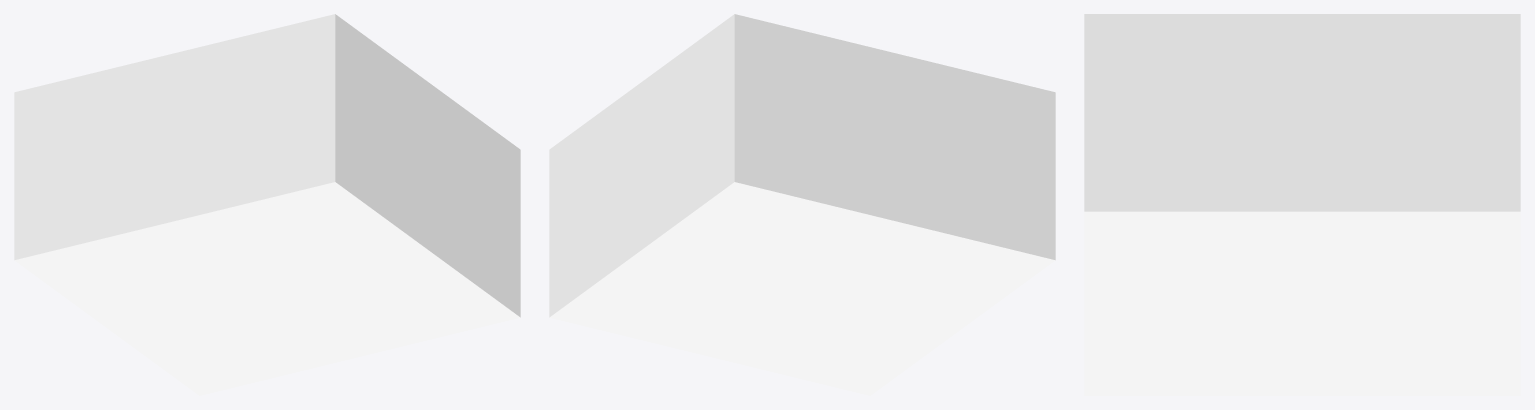
File: stage-heart_white.glb
The picture shows the model from 3 angles, left to right: view 1: azimuth 30°, elevation 25°; view 2: azimuth 150°, elevation 25°; view 3: azimuth 270°, elevation 25°; orthographic projection. The views are drawn at different scales.
Parts seen in each view (by area): view 1: Plane (×4); view 2: Plane (×4); view 3: Plane (×3).
Part boxes in pixels (left/top/right/bottom): Plane (×4): left=14, top=14, right=520, bottom=395; Plane (×4): left=549, top=14, right=1055, bottom=395; Plane (×3): left=1084, top=14, right=1520, bottom=395.
Size of the model in its own units: 20 by 10 by 20.
Materials: 9 (9 with a texture image).
